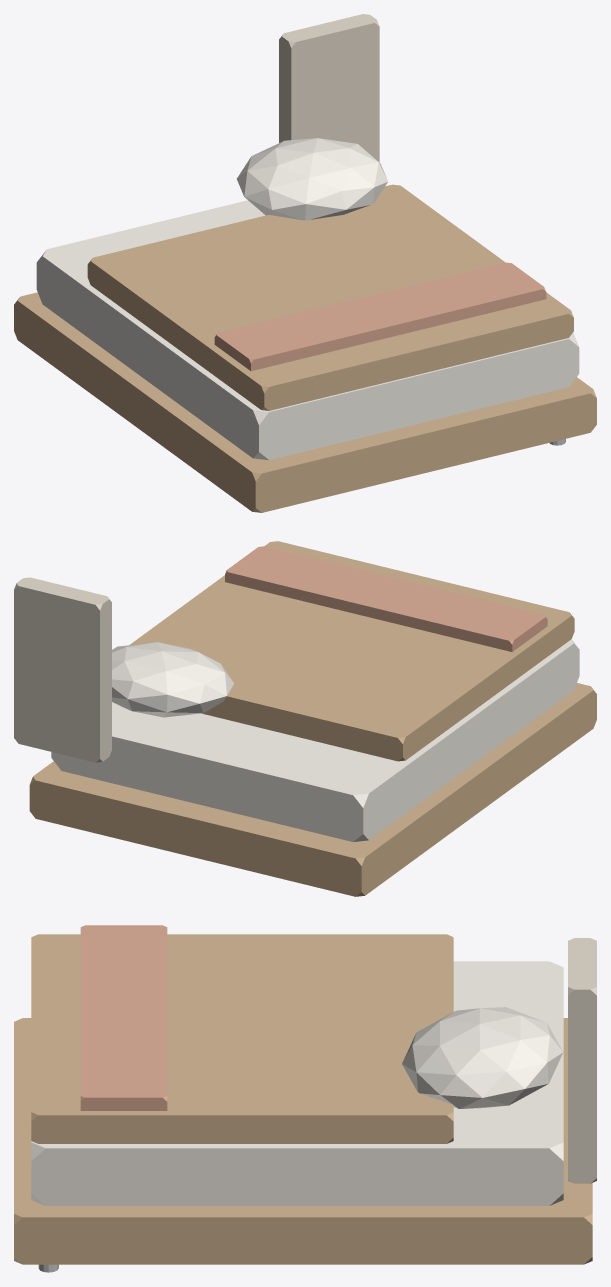
The model's file is bed_queen_low.glb.
3 views of the same model, one above another, from view 1: azimuth 30°, elevation 25°; view 2: azimuth 150°, elevation 25°; view 3: azimuth 270°, elevation 25° (orthographic). The views are drawn at different scales.
Parts seen in each view (by area): view 1: FABRIC_SAND_duvet, FABRIC_LIGHT_mattress, WOOD_DARK_frame, FABRIC_ACCENT_throw, FABRIC_MAIN_headboard_panel, FABRIC_LIGHT_pillow; view 2: FABRIC_SAND_duvet, FABRIC_LIGHT_mattress, WOOD_DARK_frame, FABRIC_MAIN_headboard_panel, FABRIC_ACCENT_throw, FABRIC_LIGHT_pillow; view 3: FABRIC_SAND_duvet, FABRIC_LIGHT_mattress, WOOD_DARK_frame, FABRIC_ACCENT_throw, FABRIC_LIGHT_pillow, FABRIC_MAIN_headboard_panel.
Part boxes in pixels (x1,y1,x2,y2): FABRIC_SAND_duvet: (87,184,573,410); FABRIC_LIGHT_mattress: (36,200,579,460); WOOD_DARK_frame: (14,292,596,512); FABRIC_ACCENT_throw: (214,262,546,371); FABRIC_MAIN_headboard_panel: (279,14,379,162); FABRIC_LIGHT_pillow: (237,138,387,220); FABRIC_SAND_duvet: (129,541,574,761); FABRIC_LIGHT_mattress: (51,639,579,841); WOOD_DARK_frame: (29,683,596,896); FABRIC_MAIN_headboard_panel: (14,577,111,762); FABRIC_ACCENT_throw: (225,546,547,651); FABRIC_LIGHT_pillow: (112,642,234,717); FABRIC_SAND_duvet: (31,934,453,1143); FABRIC_LIGHT_mattress: (31,961,563,1205); WOOD_DARK_frame: (14,1018,592,1264); FABRIC_ACCENT_throw: (80,925,167,1110); FABRIC_LIGHT_pillow: (402,1007,563,1108); FABRIC_MAIN_headboard_panel: (568,938,596,1183).
Bounding box in the file's own units: 1.7 × 1.15 × 2.01.
